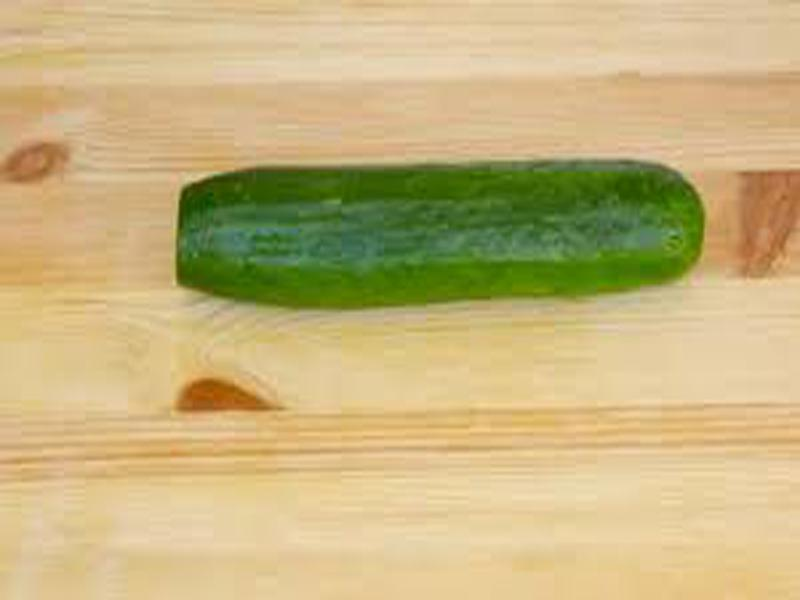Cucumber: (179, 161, 704, 304)
